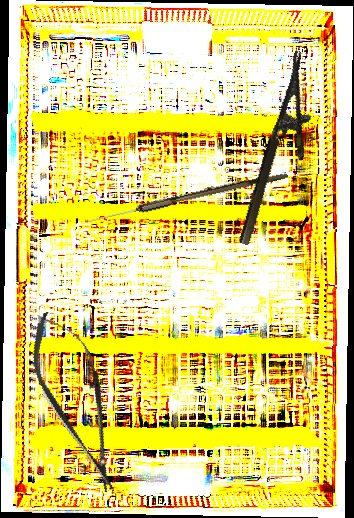Micro Scissor: (16, 302, 139, 501)
Needle Holder: (236, 50, 333, 254)
Surgical Spoon: (83, 167, 289, 229)
